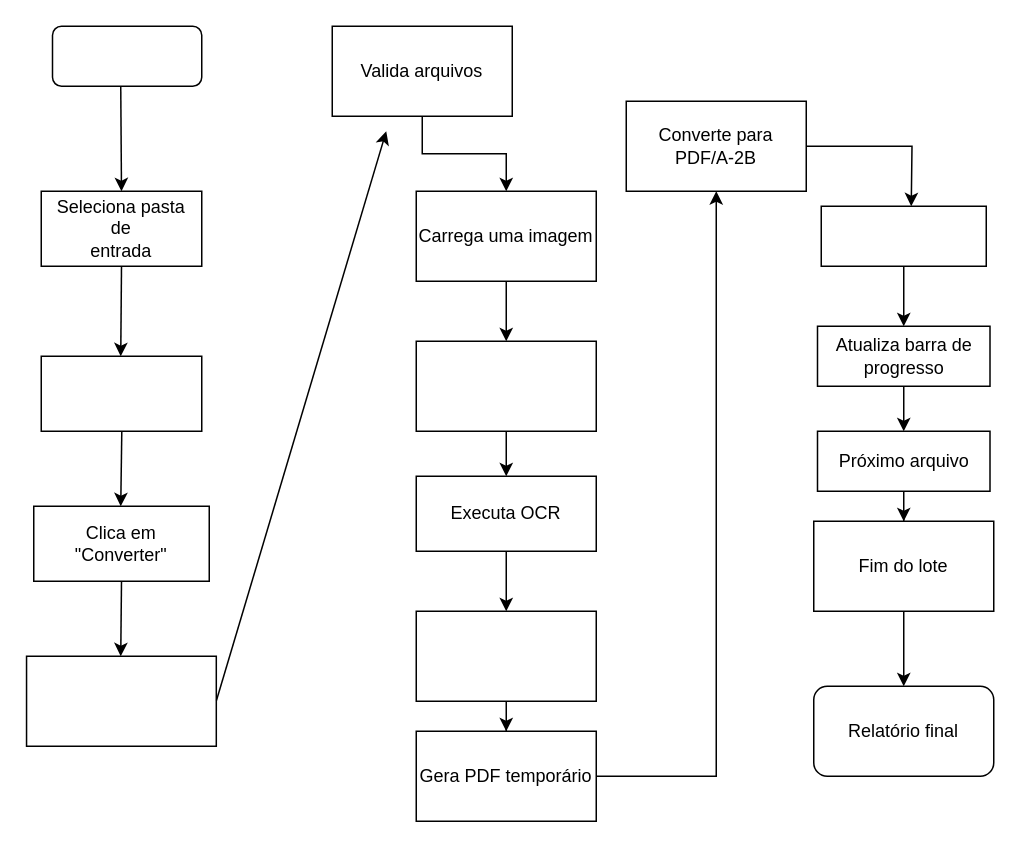
Some shapes in this 1020 by 848 pixel diagram are drawn without their labels. Here are the shapes that lost their labels. From the top down, the centre of each, then its label:
point (126, 55): Usuário
point (903, 235): Salva resultado
point (121, 393): Seleciona diretório de saída
point (505, 385): Pré-processa a imagem
point (505, 655): Recebe o texto reconhecido
point (120, 700): Sistema procura arquivos TIFF
